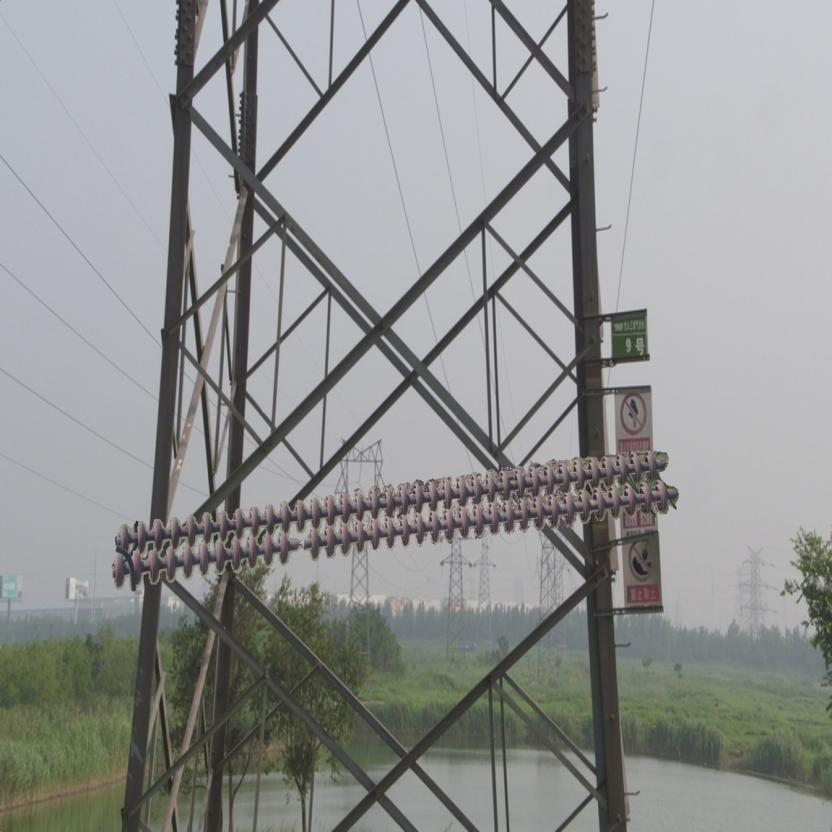defect: (274, 524, 326, 563)
